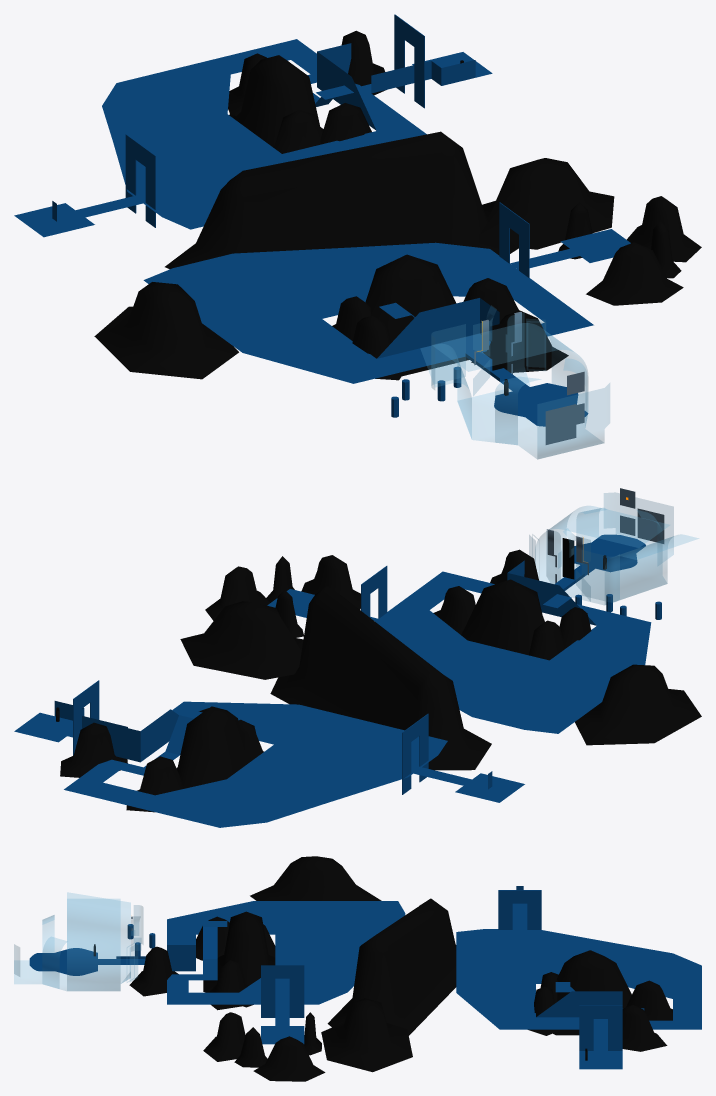
The model's file is world_1b.glb.
3 renders of one model, top to bottom at view 1: azimuth 30°, elevation 25°; view 2: azimuth 150°, elevation 25°; view 3: azimuth 270°, elevation 25°, orthographic. The views are drawn at different scales.
Parts seen in each view (by area): view 1: Cube.001, Plane.001, Plane.004; view 2: Plane.001, Cube.001, Plane.004; view 3: Plane.001, Cube.001, Plane.004.
Part boxes in pixels (bbox=[...]): Cube.001: bbox=[94, 30, 701, 395]; Plane.001: bbox=[14, 14, 630, 426]; Plane.004: bbox=[421, 305, 609, 459]; Plane.001: bbox=[14, 534, 661, 827]; Cube.001: bbox=[56, 549, 701, 812]; Plane.004: bbox=[529, 488, 698, 604]; Plane.001: bbox=[29, 886, 701, 1069]; Cube.001: bbox=[93, 856, 672, 1081]; Plane.004: bbox=[14, 892, 143, 990].
Bounding box in the file's own units: 65.55 × 13.29 × 95.24.
